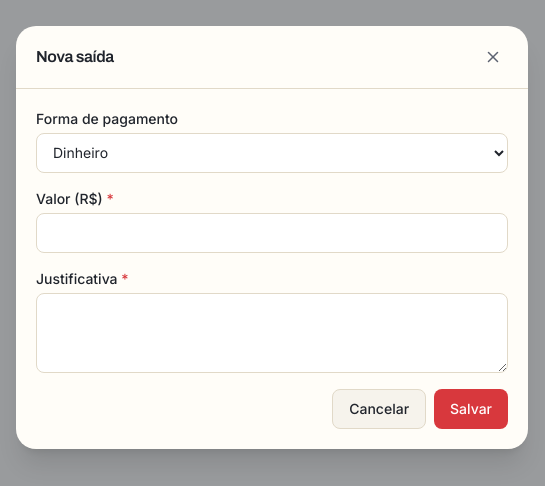
Test: RegistrarMovimentoModal › requires a justification for a saída
Type "75" into the number field labelled "Valor (R$) *". click: {"x": 272, "y": 232}
box: [36,212,508,252]
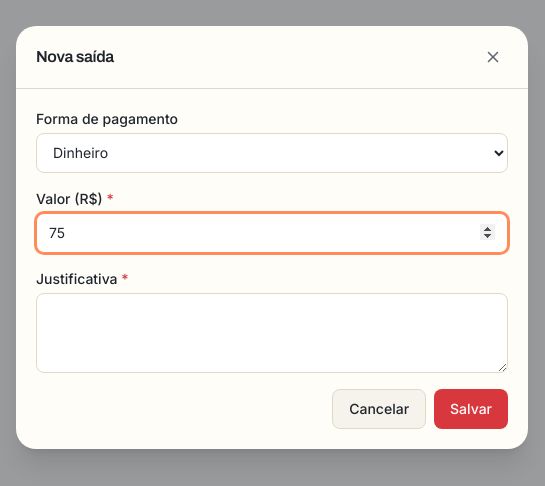
Click the button "Salvar". click: {"x": 471, "y": 408}
box: [434,388,508,428]
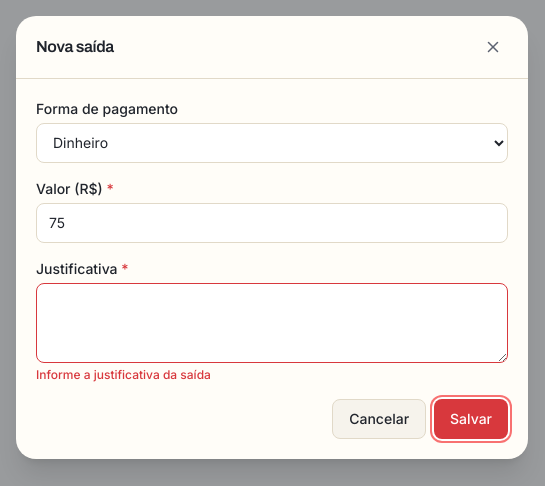
Expected: the text "Informe a justificativa da saída" is shown, [36,366,211,382]
